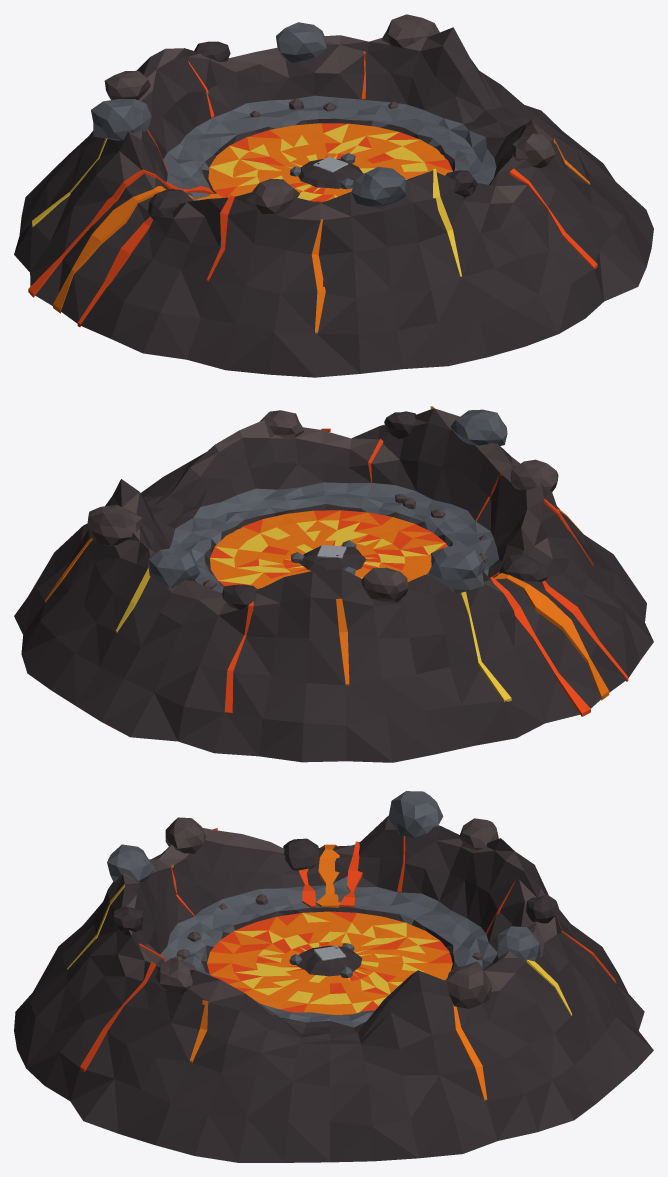
File: volcano_crater.glb
The picture shows the model from 3 angles, top to bottom: view 1: azimuth 30°, elevation 25°; view 2: azimuth 150°, elevation 25°; view 3: azimuth 270°, elevation 25°; orthographic projection.
Parts seen in each view (by area): view 1: volcano_crater, lava; view 2: volcano_crater, lava; view 3: volcano_crater, lava.
Part boxes in pixels (x1=…): volcano_crater: x1=14, y1=14, x2=653, y2=377; lava: x1=28, y1=51, x2=597, y2=333; volcano_crater: x1=14, y1=408, x2=653, y2=762; lava: x1=45, y1=406, x2=628, y2=716; volcano_crater: x1=14, y1=791, x2=653, y2=1162; lava: x1=67, y1=828, x2=616, y2=1100.
Bounding box in the file's own units: 36.92 × 10.2 × 37.22.
